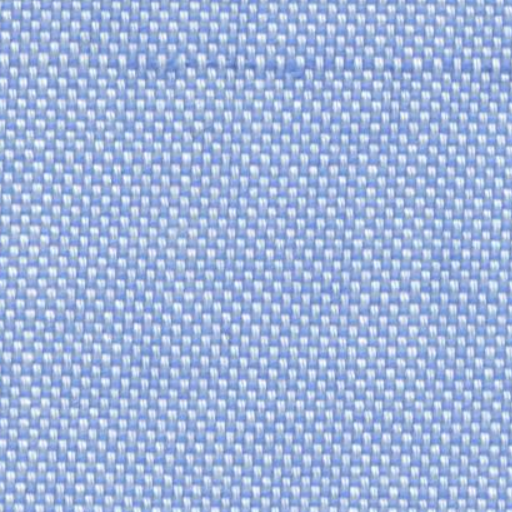DaiSha: (72, 46, 502, 78)
